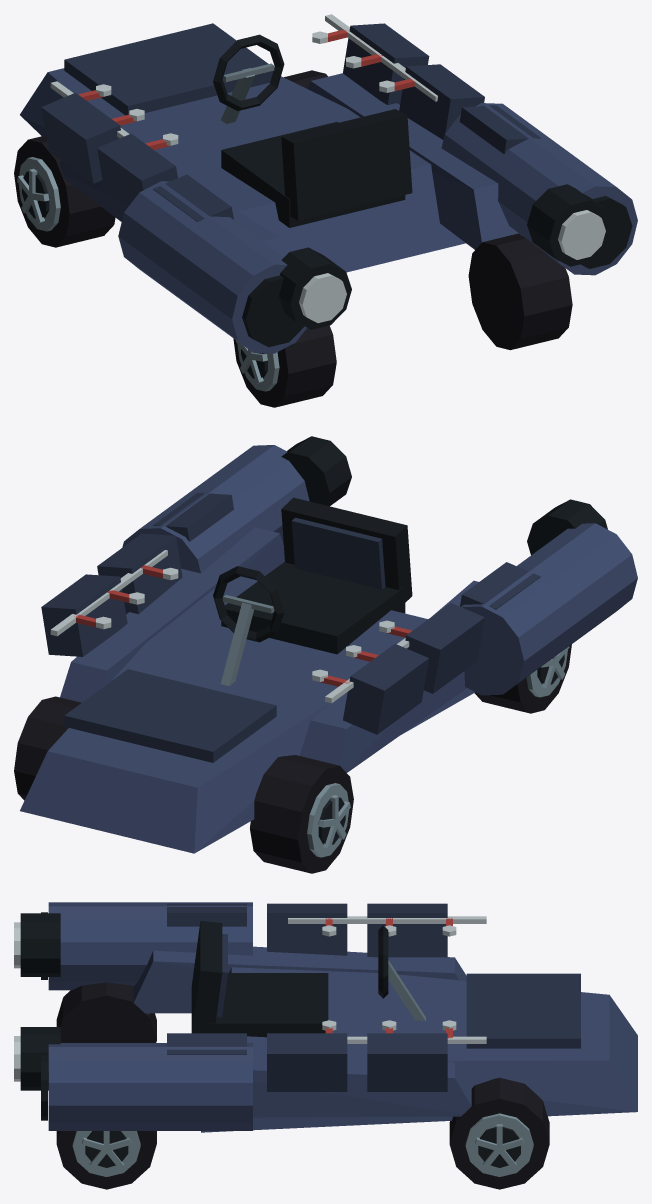
The model's file is kart.glb.
3 views of the same model, one above another, from view 1: azimuth 30°, elevation 25°; view 2: azimuth 150°, elevation 25°; view 3: azimuth 270°, elevation 25° (orthographic). The views are drawn at different scales.
Parts seen in each view (by area): view 1: identity-speeder-speeder-long-cowl-and-stern-turbines, identity-speeder-motif-armor, identity-speeder-driver-cockpit, identity-speeder-motif-thrusters, wheel-rear-right, wheel-front-left, wheel-rear-left, identity-speeder-motif-circuit; view 2: identity-speeder-speeder-long-cowl-and-stern-turbines, identity-speeder-motif-armor, identity-speeder-driver-cockpit, wheel-front-left, identity-speeder-motif-thrusters, identity-speeder-motif-circuit, wheel-front-right, wheel-rear-left; view 3: identity-speeder-speeder-long-cowl-and-stern-turbines, identity-speeder-motif-armor, identity-speeder-driver-cockpit, wheel-front-right, identity-speeder-motif-thrusters, wheel-rear-left, wheel-rear-right, identity-speeder-motif-circuit.
Part boxes in pixels (box(x1,y1,x2,y2)): identity-speeder-speeder-long-cowl-and-stern-turbines: box(20, 23, 637, 353); identity-speeder-motif-armor: box(41, 23, 540, 221); identity-speeder-driver-cockpit: box(213, 34, 412, 227); identity-speeder-motif-thrusters: box(279, 184, 610, 329); wheel-rear-right: box(468, 233, 572, 350); wheel-front-left: box(14, 135, 115, 247); wheel-rear-left: box(233, 325, 336, 407); identity-speeder-motif-circuit: box(50, 14, 437, 149); identity-speeder-speeder-long-cowl-and-stern-turbines: box(20, 445, 637, 853); identity-speeder-motif-armor: box(41, 492, 540, 734); identity-speeder-driver-cockpit: box(213, 497, 412, 685); wheel-front-left: box(250, 755, 353, 873); identity-speeder-motif-thrusters: box(281, 436, 607, 555); identity-speeder-motif-circuit: box(50, 550, 412, 703); wheel-front-right: box(14, 696, 81, 800); wheel-rear-left: box(474, 644, 571, 713); identity-speeder-speeder-long-cowl-and-stern-turbines: box(41, 902, 637, 1132); identity-speeder-motif-armor: box(167, 903, 447, 1091); identity-speeder-driver-cockpit: box(191, 920, 425, 1037); wheel-front-right: box(449, 1077, 549, 1189); identity-speeder-motif-thrusters: box(14, 913, 60, 1090); wheel-rear-left: box(56, 982, 156, 1042); wheel-rear-right: box(56, 1131, 156, 1189); identity-speeder-motif-circuit: box(288, 916, 486, 1043).
Size of the model in its own units: 2.1 by 1.09 by 3.11.
